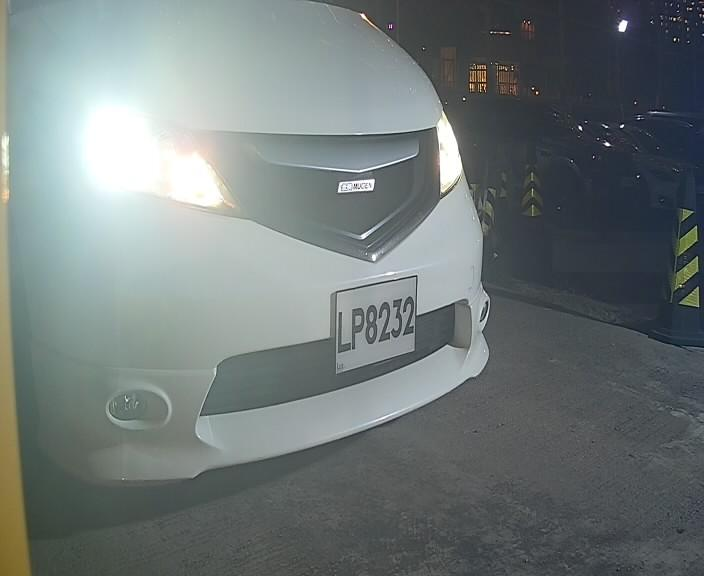License Plate: (312, 268, 431, 376)
